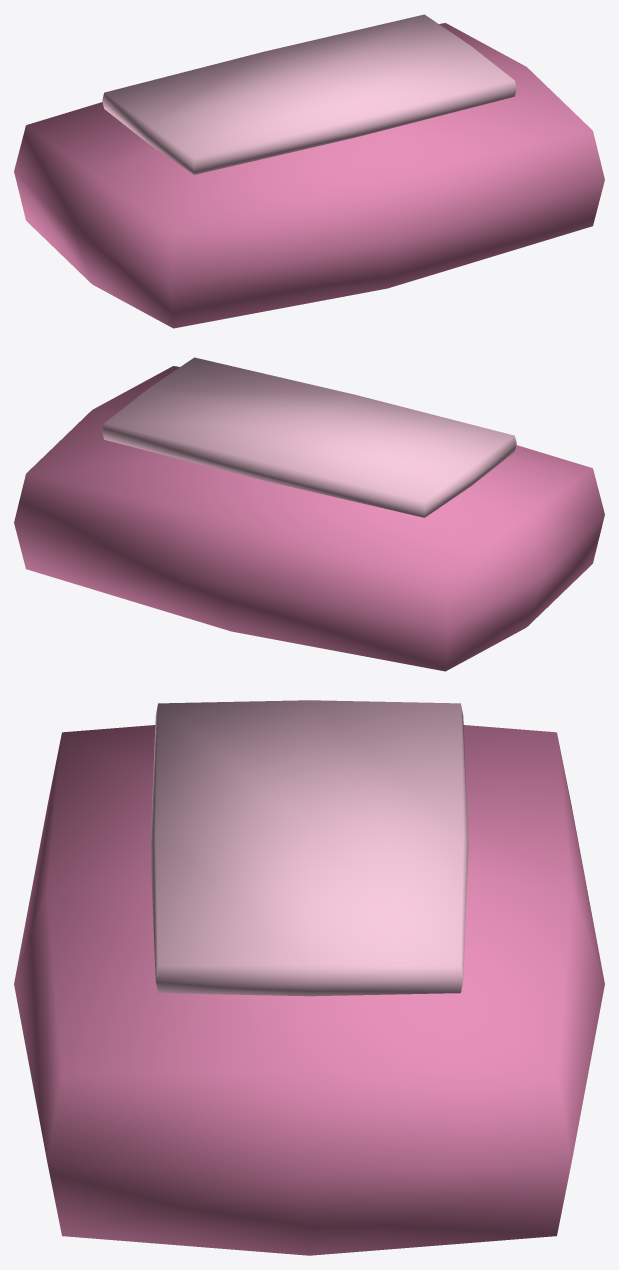
Rendered from soap.glb.
3 renders of one model, top to bottom at view 1: azimuth 30°, elevation 25°; view 2: azimuth 150°, elevation 25°; view 3: azimuth 270°, elevation 25°, orthographic. The views are drawn at different scales.
Visible parts, largest first — view 1: root; view 2: root; view 3: root.
Part boxes in pixels (bbox=[...]): root: bbox=[14, 14, 604, 328]; root: bbox=[14, 357, 604, 671]; root: bbox=[14, 700, 604, 1255].
Size of the model in its own units: 0.2 by 0.068 by 0.13.
